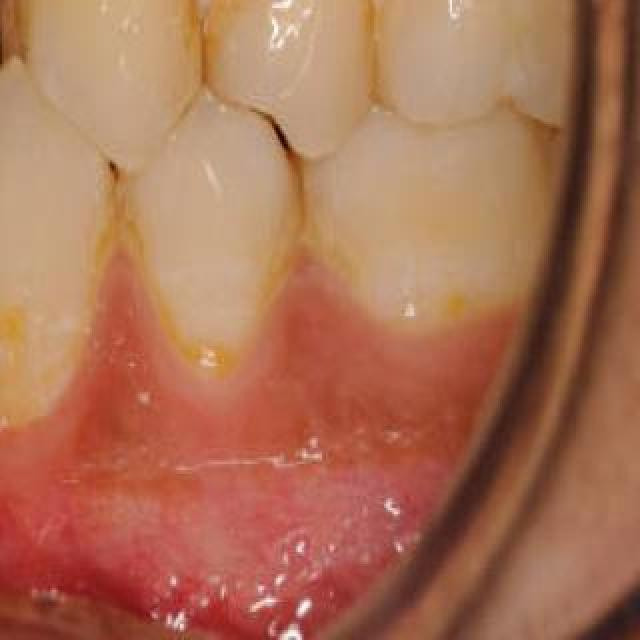plaque: (0, 204, 92, 410), (0, 0, 182, 86), (182, 0, 262, 80), (358, 0, 448, 62)
stains: (129, 188, 305, 418)
